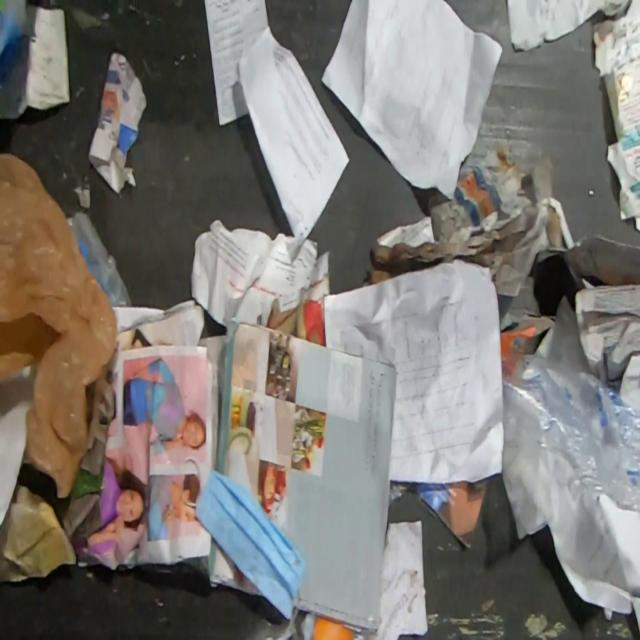cardboard: (0, 481, 76, 582), (497, 275, 556, 358)
soft_plastic: (0, 150, 118, 502), (502, 293, 640, 521), (66, 212, 132, 309)
